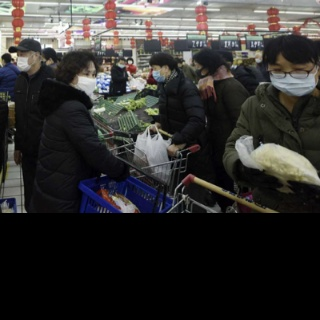with_mask: (268, 62, 317, 97), (75, 69, 97, 96), (15, 52, 32, 73), (152, 67, 165, 84), (195, 64, 205, 79), (117, 62, 127, 69), (254, 56, 262, 64), (127, 59, 133, 66)
